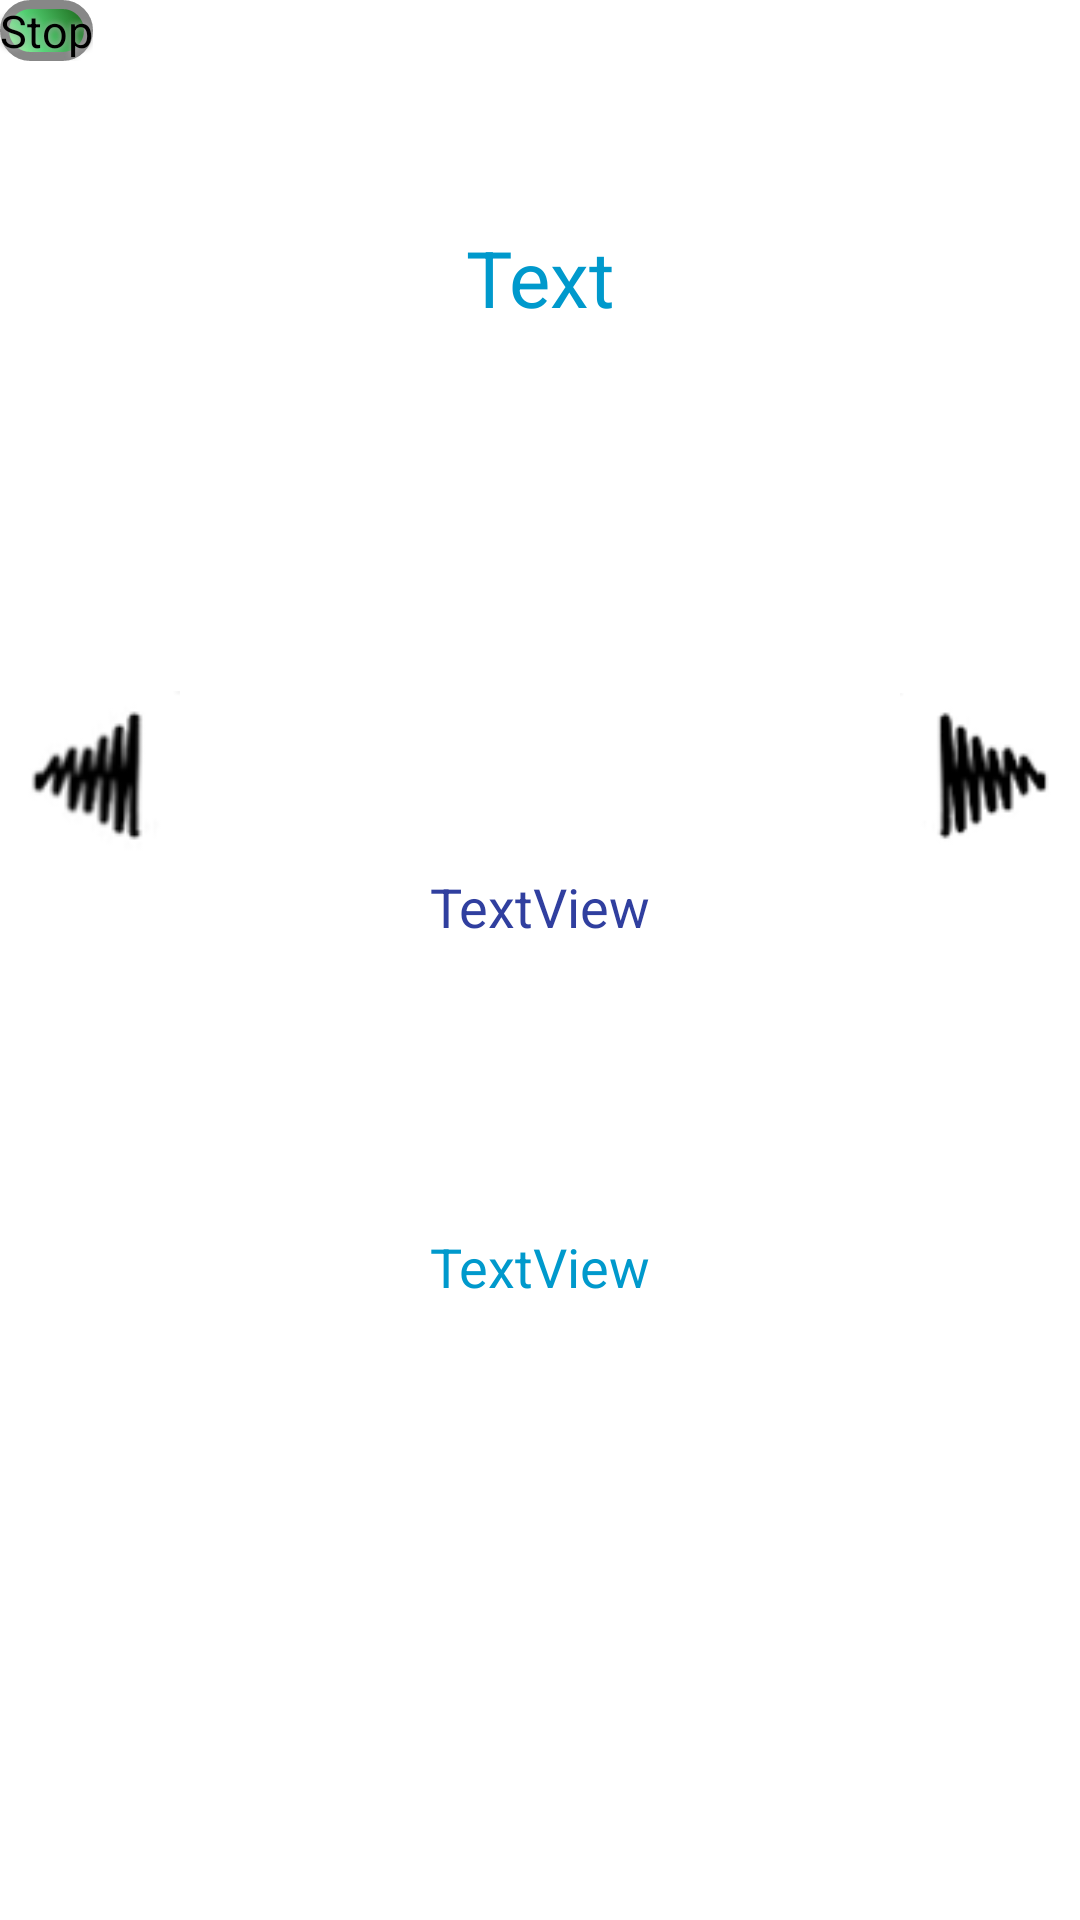

Icons on this 1080 × 1920 Android screen, each with its box as (x1, y1, x2, y2):
Next word: (938, 712, 1047, 839)
Previous word: (32, 712, 142, 840)
